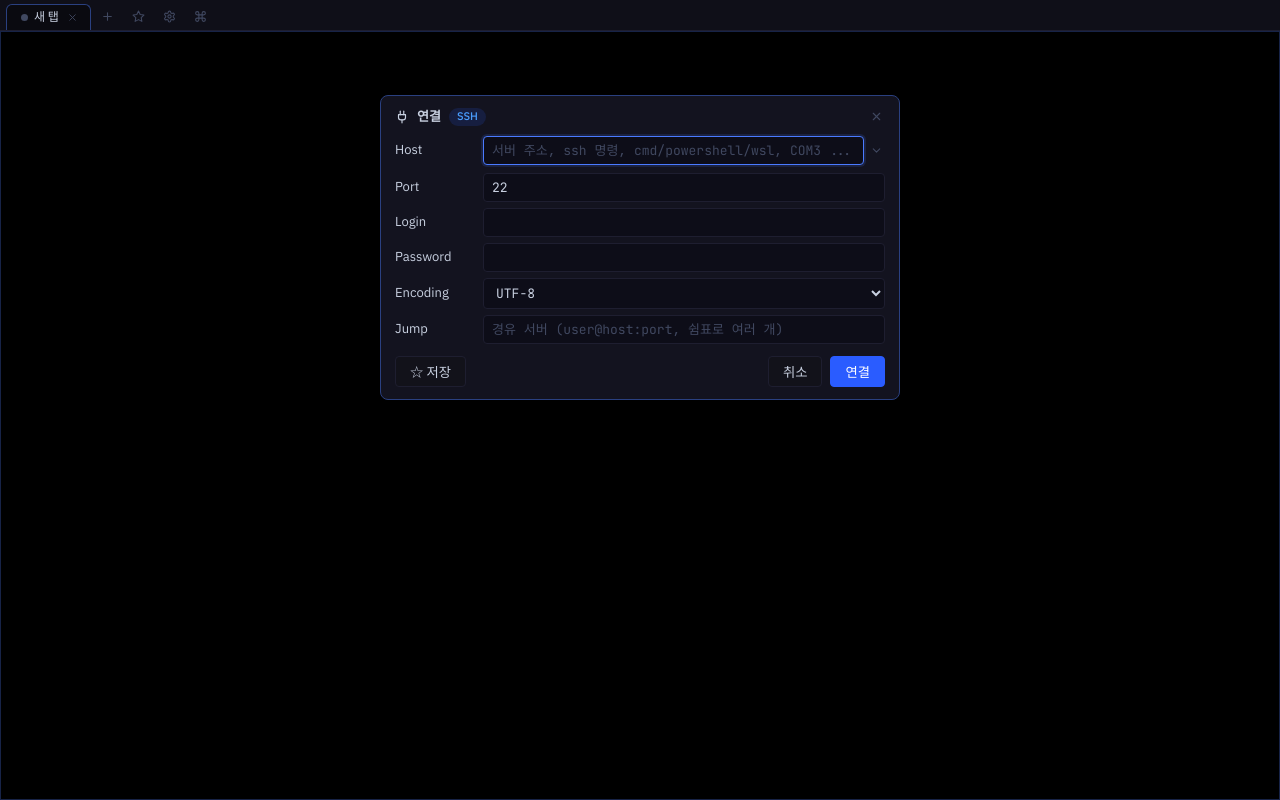
Test: 재접속 연결 (RW) › RW-02: 탭을 닫으면 예약된 재접속 취소
Type "srv" into the field labelled "Host" at coordinates (674, 150), box [483, 136, 864, 165]
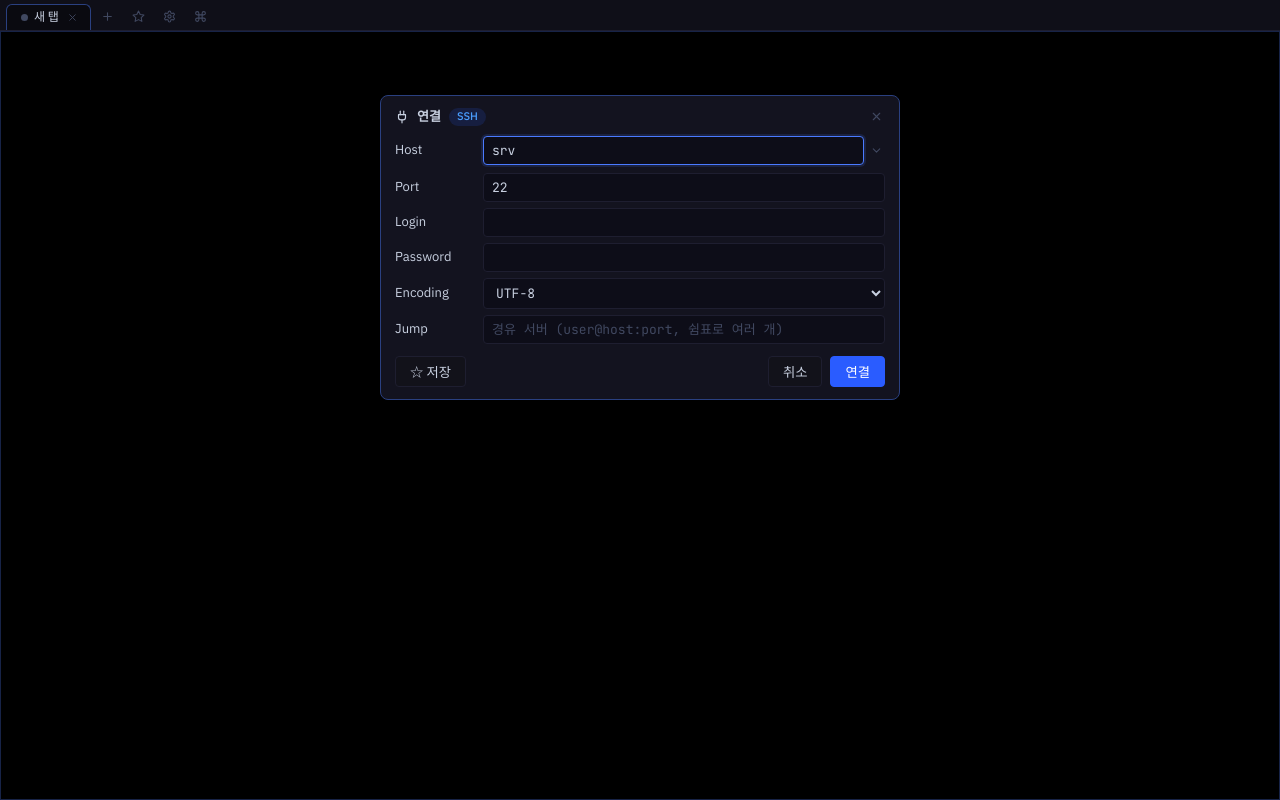
Submit the form labelled "Host", box [380, 95, 900, 400]
Wait 60000 ms
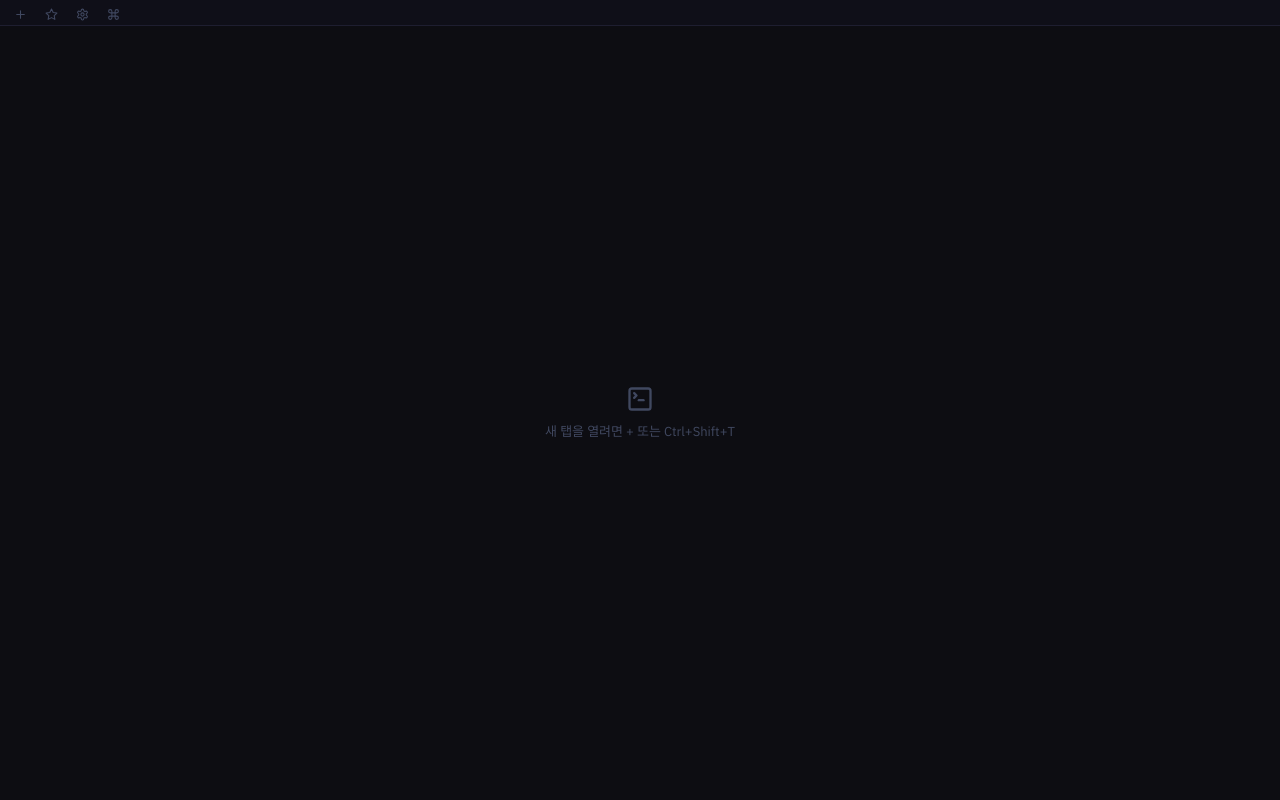
Now the label labelled "Host" is gone
